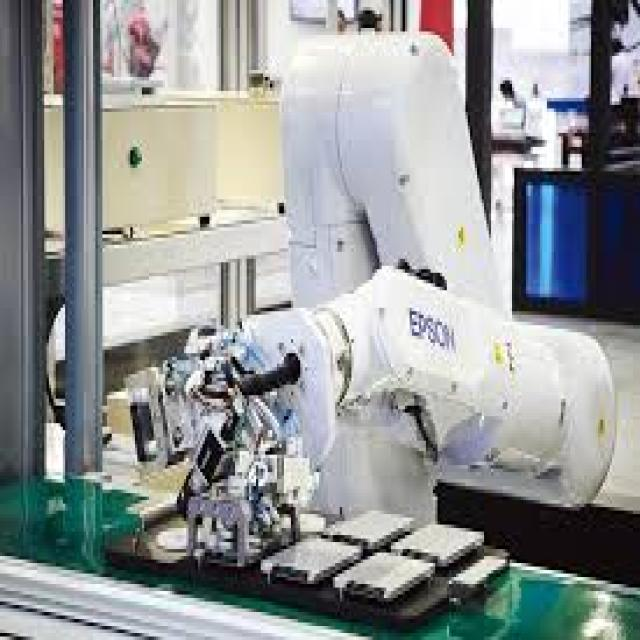Robotic-arm: (260, 23, 620, 536)
